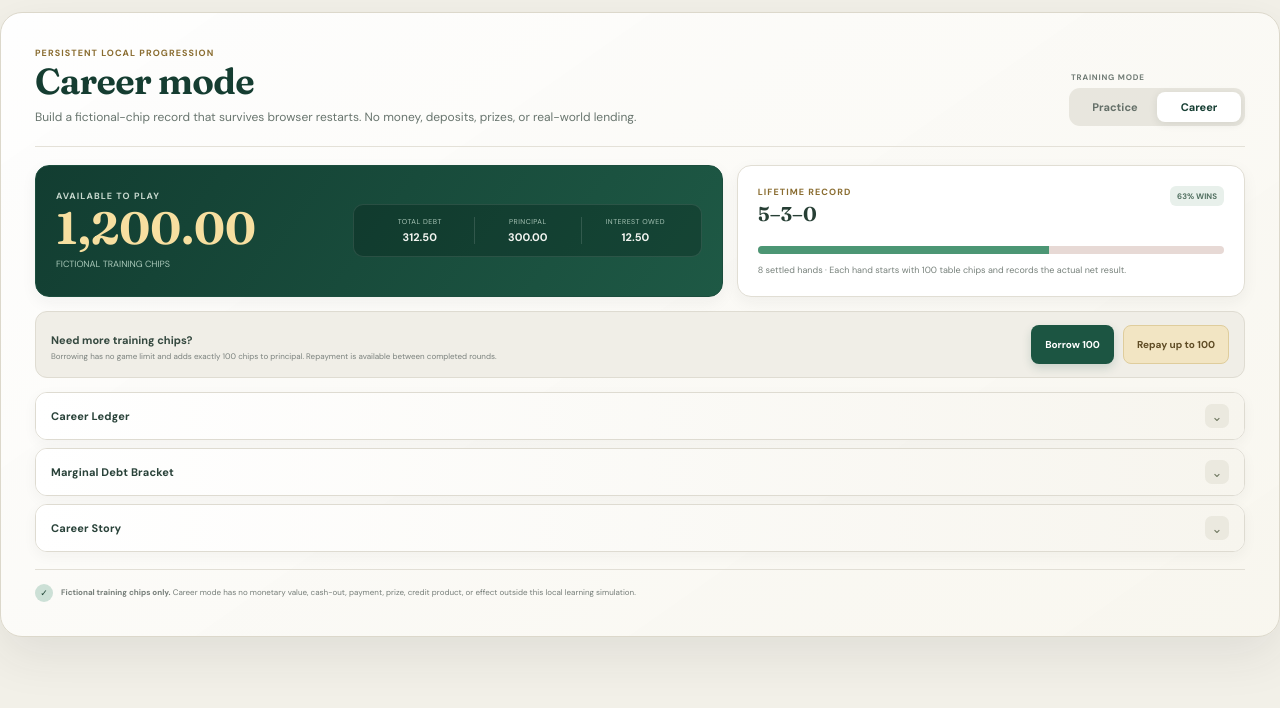
Test: CareerDashboard compact disclosures › expands sections independently and collapses only the selected section
Click the button "Career Ledger ⌄".
click(90, 416)  # box [36,393,1244,439]
(page scrolled)
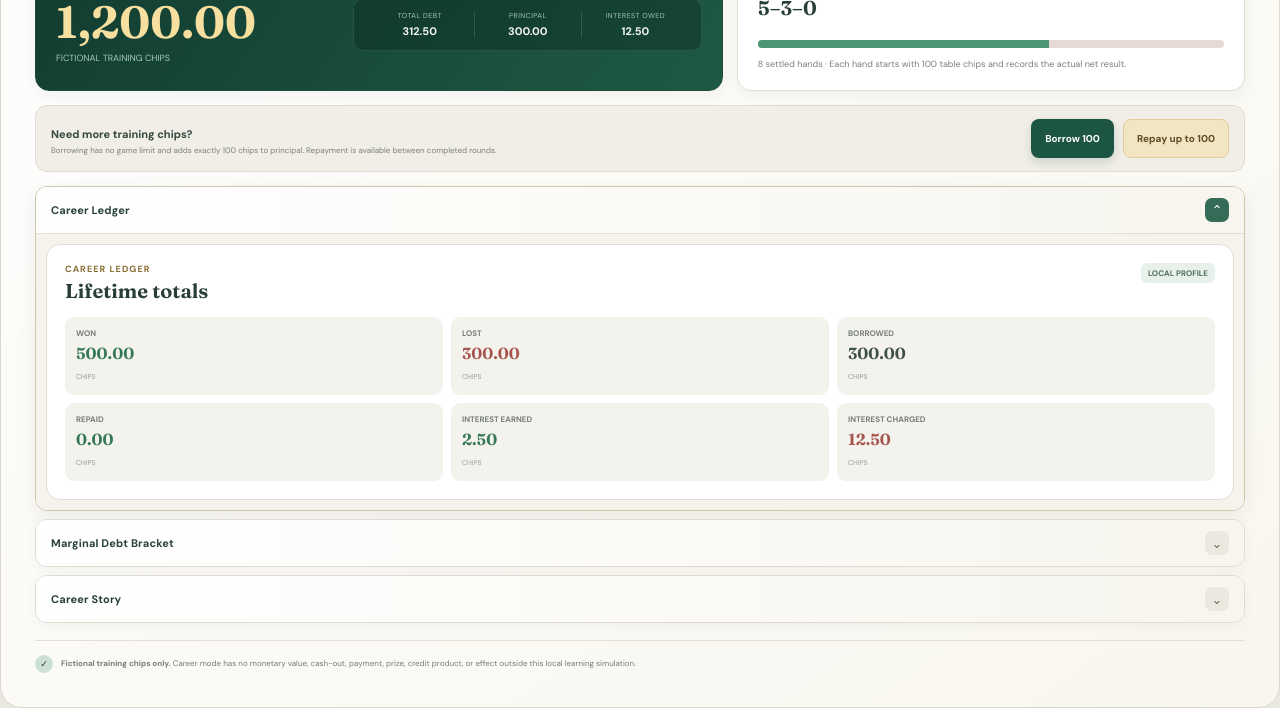
Check: the button "Career Ledger ⌄" is expanded, box [36,187,1244,233]
Check: the heading "Lifetime totals" is shown, box [65,278,208,303]
Click the button "Marginal Debt Bracket ⌄".
click(112, 543)  # box [36,520,1244,566]
(page scrolled)
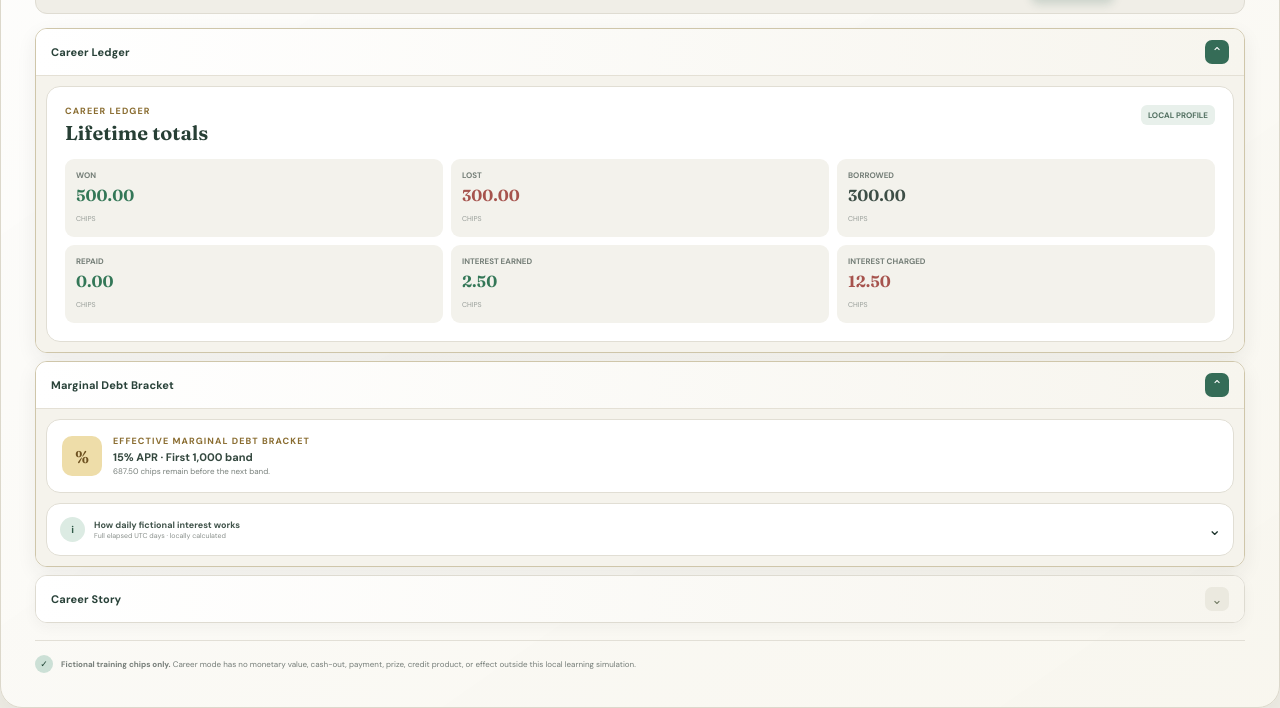
Click the button "Career Story ⌄".
click(86, 599)  # box [36,576,1244,622]
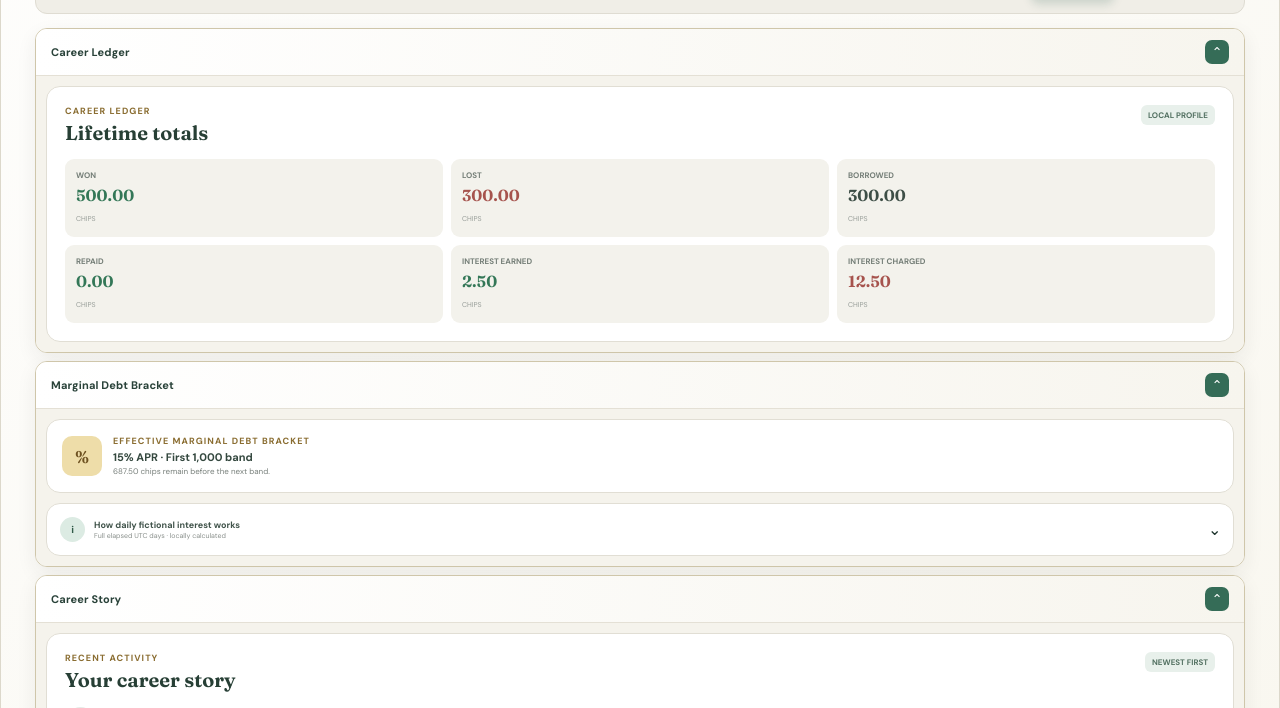
Check: the button "Marginal Debt Bracket ⌄" is expanded, box [36,362,1244,408]
Check: the heading "Lifetime totals" is shown, box [65,120,208,145]
Check: the button "Career Story ⌄" is expanded, box [36,576,1244,622]
Click the button "Career Ledger ⌄".
click(90, 52)  # box [36,29,1244,75]
(page scrolled)
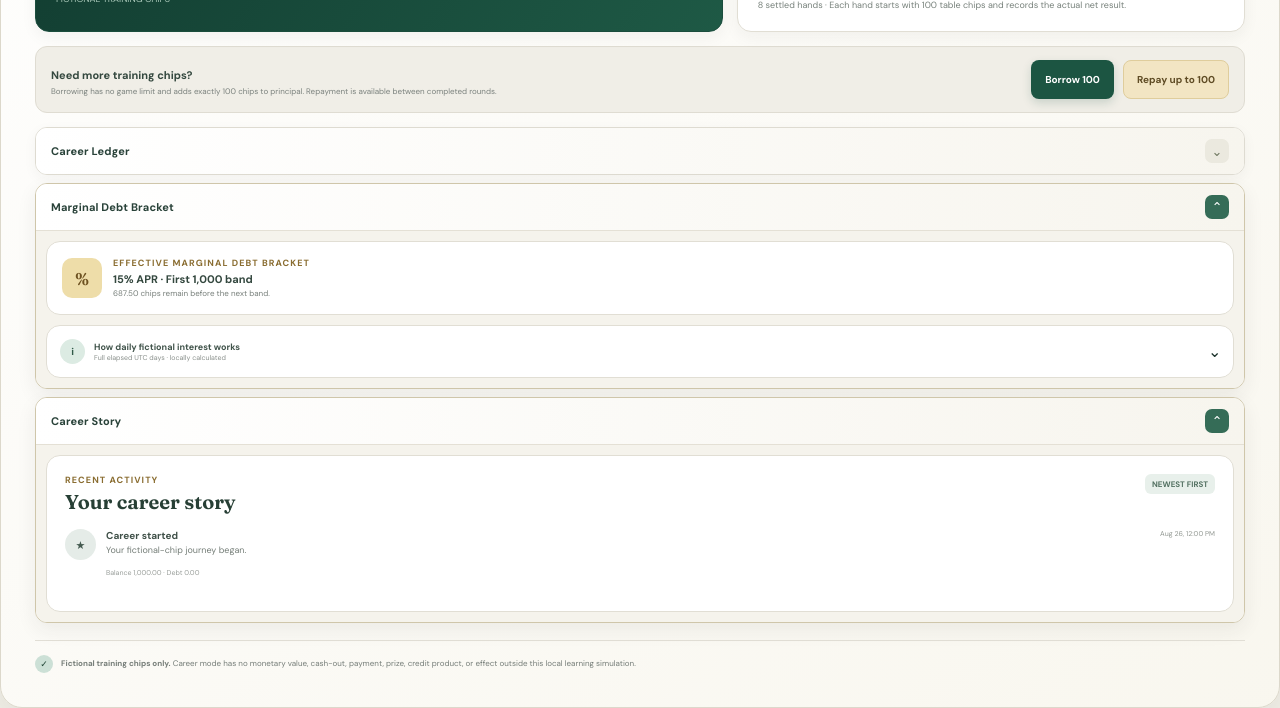
Check: the button "Career Ledger ⌄" is collapsed, box [36,128,1244,174]
